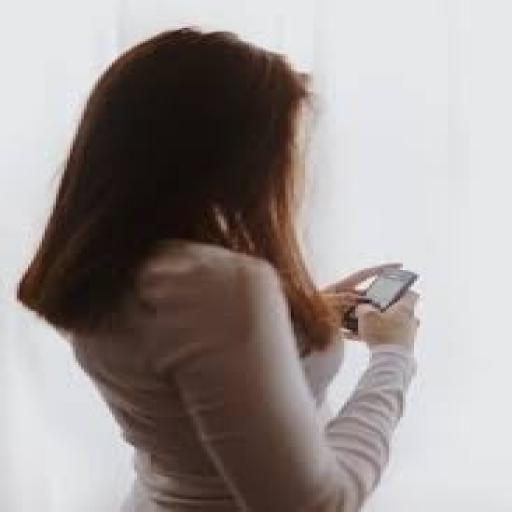texting: (14, 24, 425, 510)
